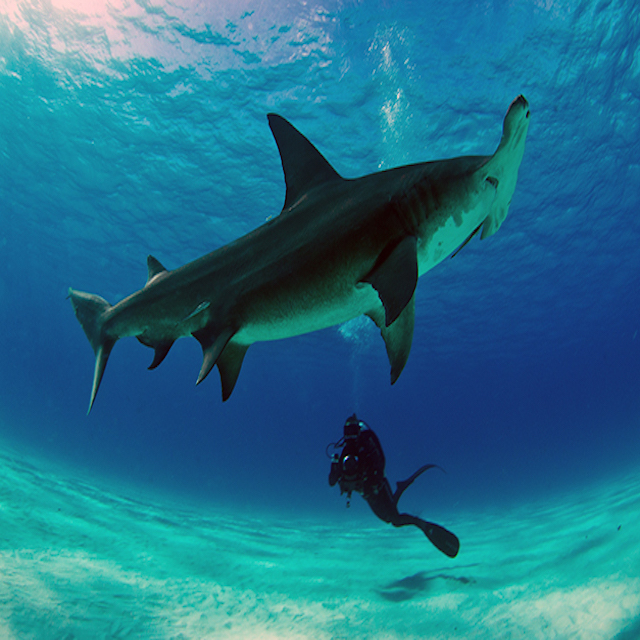hammerhead: (416, 83, 544, 280)
